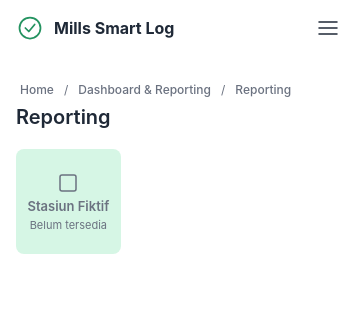
Test: ReportingPilihStasiunView — "Pilih Stasiun untuk Laporan (Mobile)" › menandai tile nonaktif bila kodenya tidak ada di REPORT_ROUTES MESKIPUN isActive=true
Note: Ditekan pun hanya mengisi pesan — tidak berpindah rute.
Click the list item with test id "station-tile-zz-stasiun-fiktif" at point(68, 201), box [16,149,121,254]
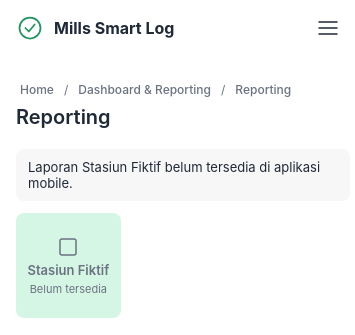
Expected: the list item with test id "station-tile-zz-stasiun-fiktif" is shown, [16,213,121,318]
Expected: the message with test id "info-message" reads "Laporan Stasiun Fiktif belum tersedia di aplikasi mobile.", [28,159,320,191]
